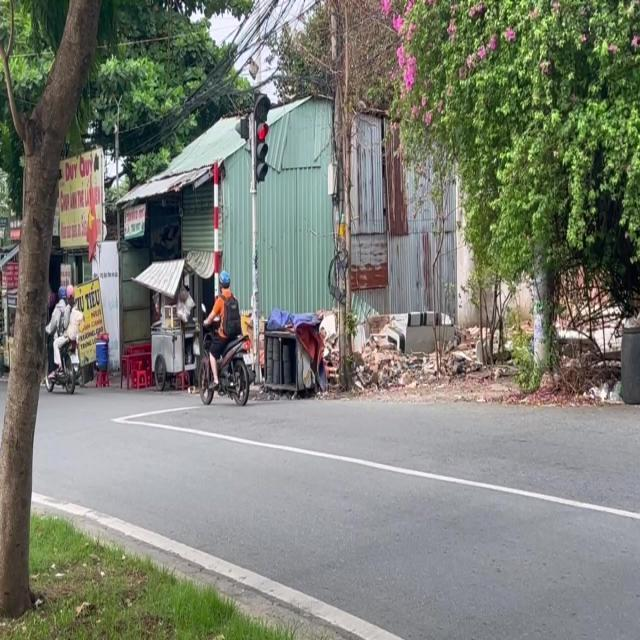red_light: (252, 92, 269, 180)
